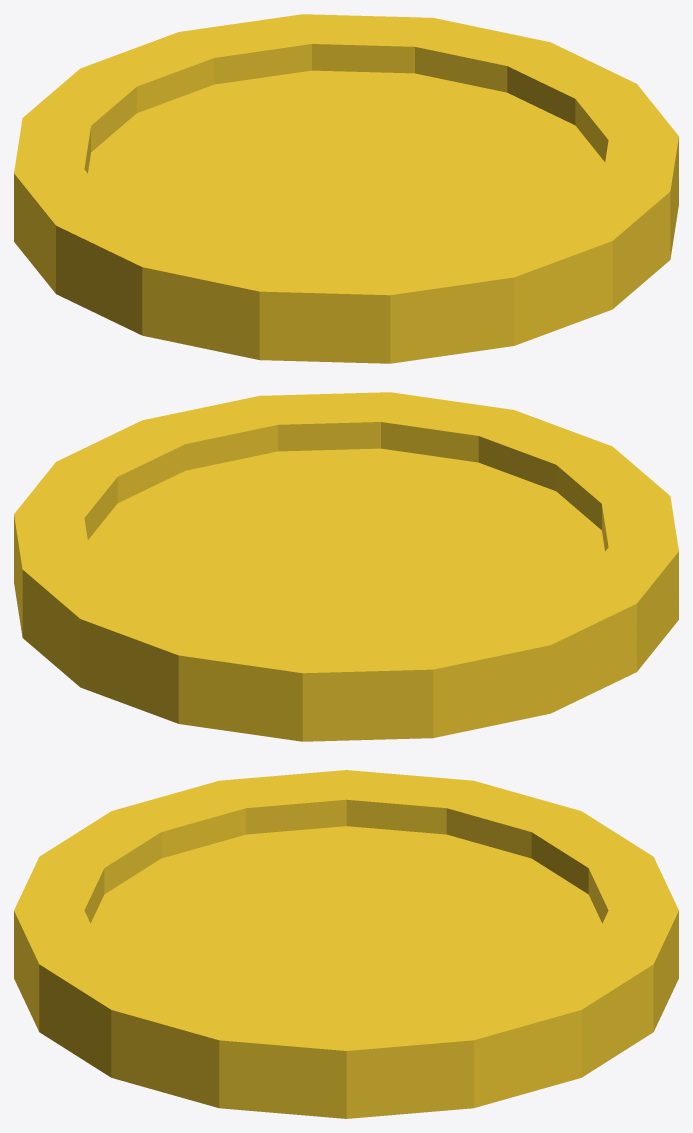
File: coin01.gltf
The picture shows the model from 3 angles, top to bottom: view 1: azimuth 30°, elevation 25°; view 2: azimuth 150°, elevation 25°; view 3: azimuth 270°, elevation 25°; orthographic projection.
Visible parts, largest first — view 1: Cylinder; view 2: Cylinder; view 3: Cylinder.
Boxes of the visible parts, <box> form: Cylinder: <box>14,14,678,363</box>; Cylinder: <box>14,392,678,741</box>; Cylinder: <box>14,770,678,1118</box>.
Bounding box in the file's own units: 0.04 × 0.00451 × 0.04.
1 material, 1 textured.
